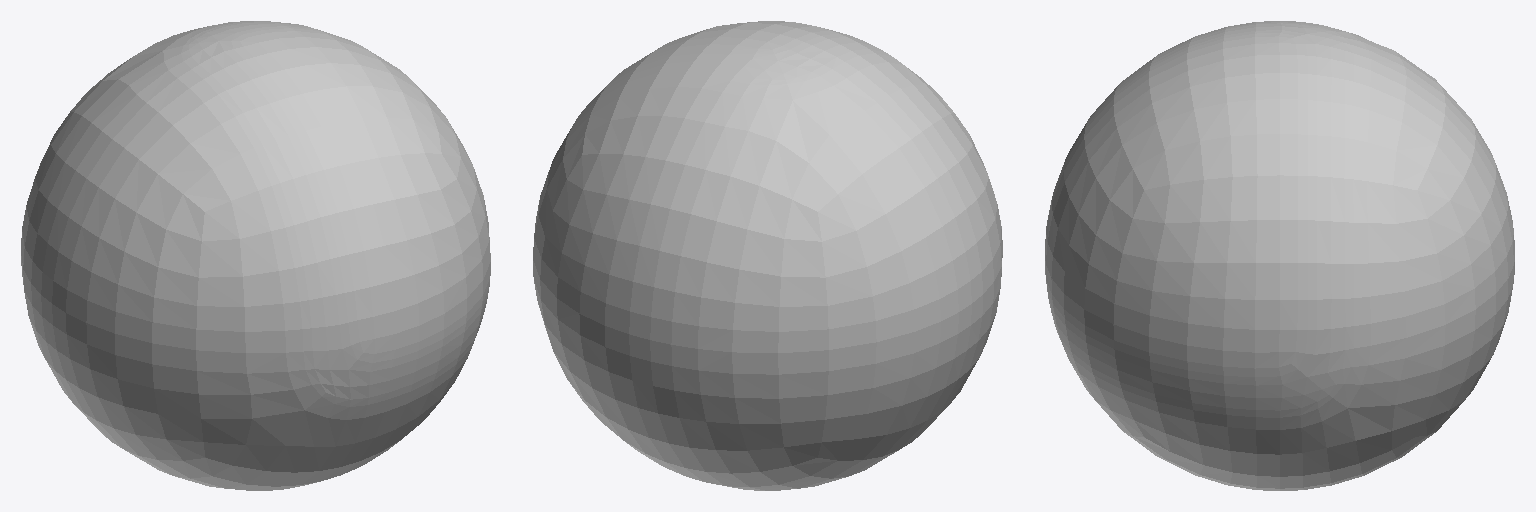
The model's file is core.obj.
The picture shows the model from 3 angles: view 1: azimuth 30°, elevation 25°; view 2: azimuth 150°, elevation 25°; view 3: azimuth 270°, elevation 25°; orthographic projection.
Parts seen in each view (by area): view 1: standard_shader_ball_scene:core standard_shader_ball_scene:neutr; view 2: standard_shader_ball_scene:core standard_shader_ball_scene:neutr; view 3: standard_shader_ball_scene:core standard_shader_ball_scene:neutr.
Part boxes in pixels (left/top/right/bottom): standard_shader_ball_scene:core standard_shader_ball_scene:neutr: left=21, top=21, right=490, bottom=490; standard_shader_ball_scene:core standard_shader_ball_scene:neutr: left=533, top=21, right=1002, bottom=490; standard_shader_ball_scene:core standard_shader_ball_scene:neutr: left=1045, top=21, right=1514, bottom=490.
Size of the model in its own units: 5.4 by 5.4 by 5.4.